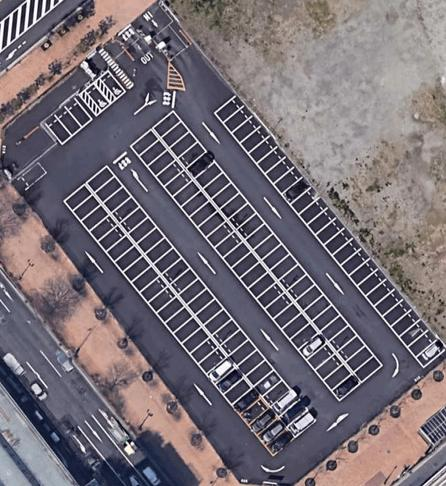parkingspot: (61, 182, 299, 458), (84, 164, 319, 439), (151, 109, 385, 385), (128, 129, 362, 404), (212, 93, 446, 368), (43, 96, 94, 147), (16, 161, 47, 193), (83, 82, 112, 113), (99, 69, 127, 101)
